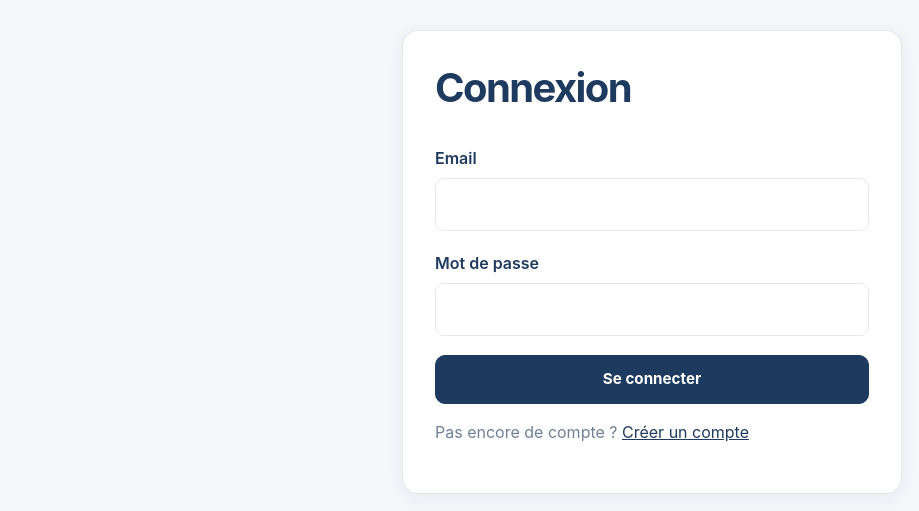
Test: LoginPage › [F08a.4] redirige vers la page initialement demandée
This screenshot has width=919, height=511.
Type "jean@example.com" into the field labelled "Email" at (652, 205), box [435,178,869,231]
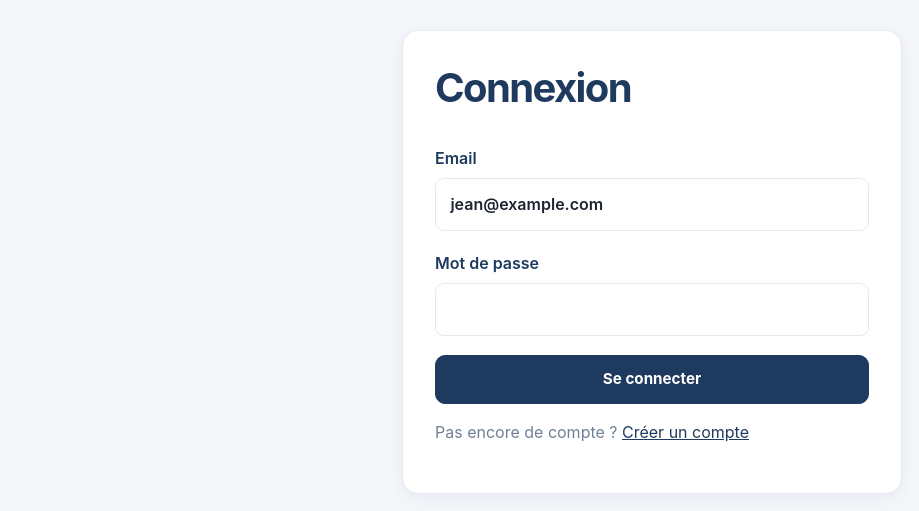
Type "password123" into the password field labelled "Mot de passe" at (652, 309), box [435,282,869,336]
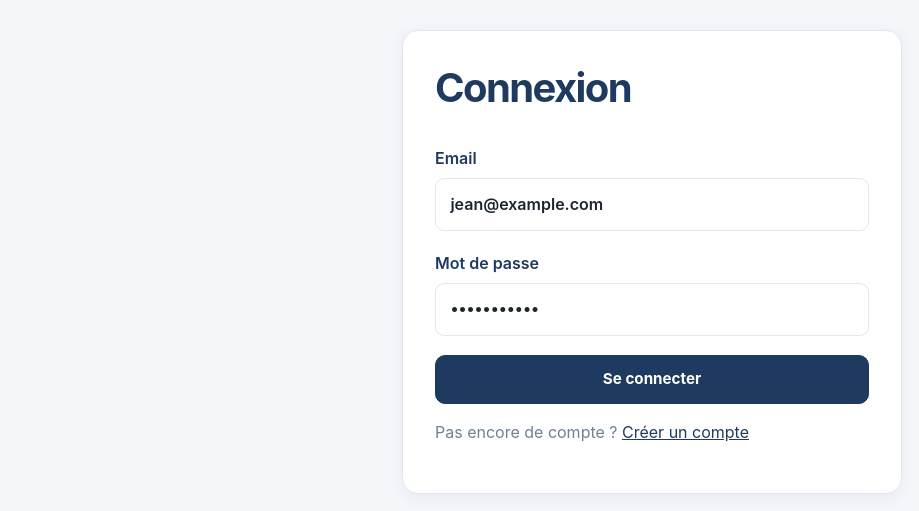
Click the button "Se connecter" at (652, 379), box [435,355,869,404]
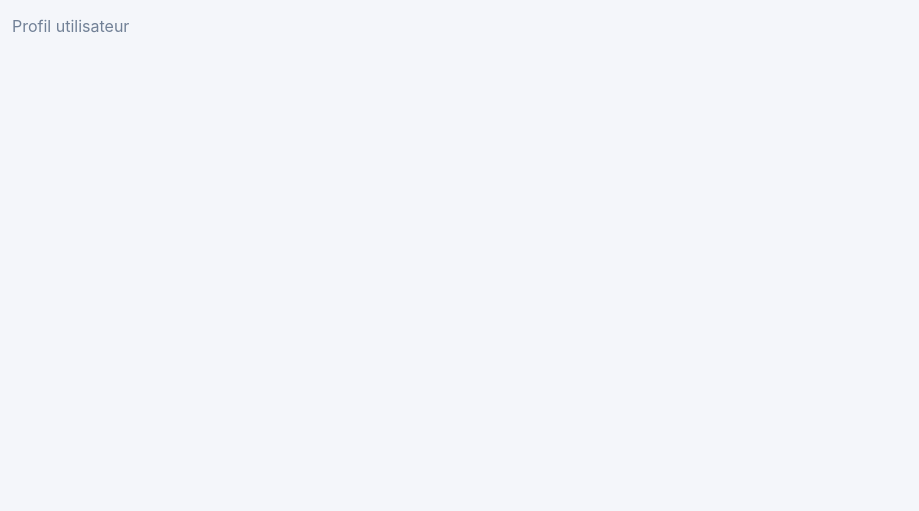
Now the text "Profil utilisateur" is shown, box [12,16,129,36]
